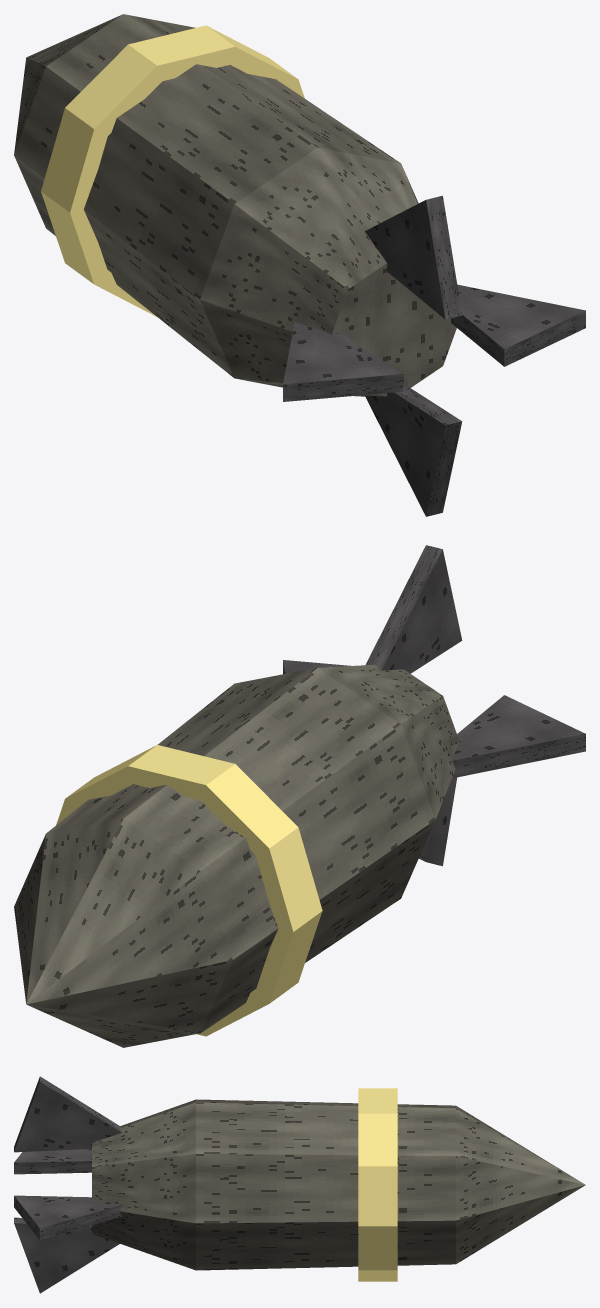
File: proj_mortar.gltf
3 renders of one model, top to bottom at view 1: azimuth 30°, elevation 25°; view 2: azimuth 150°, elevation 25°; view 3: azimuth 270°, elevation 25°, orthographic. The views are drawn at different scales.
Visible parts, largest first — view 1: body, glow; view 2: body, glow; view 3: body, glow.
Boxes of the visible parts, x1,y1,x2,y2 form: body: (14,14,585,516); glow: (41,25,304,316); body: (14,545,585,1047); glow: (56,745,322,1036); body: (14,1076,585,1293); glow: (358,1088,397,1281).
Bounding box in the file's own units: 0.18 × 0.18 × 0.44.
Materials: 2 (1 with a texture image).
